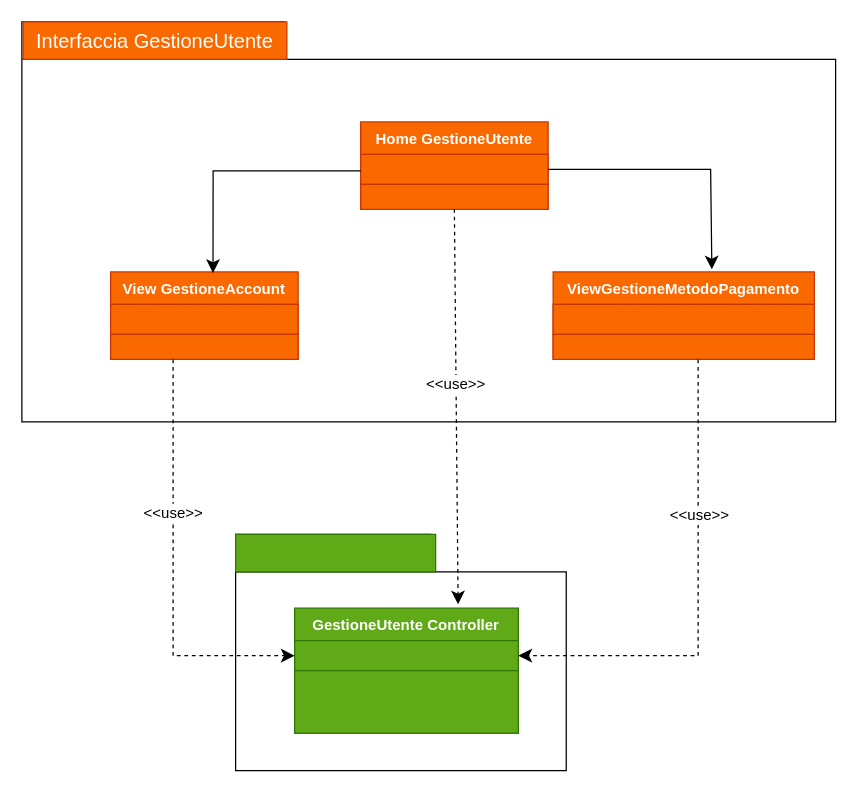
Image size: 858x793. Some labels were removed from this diagram. The shapes that lost their labels are listed below. From the top down, each one's centre as x and y in pixels, then its label:
At pixel 335 552: "GestioneUtente".
At pixel 405 701: "+ cambiaNome(string) + cambiaPassword(string) + aggiornaMetodoPagamento()".
